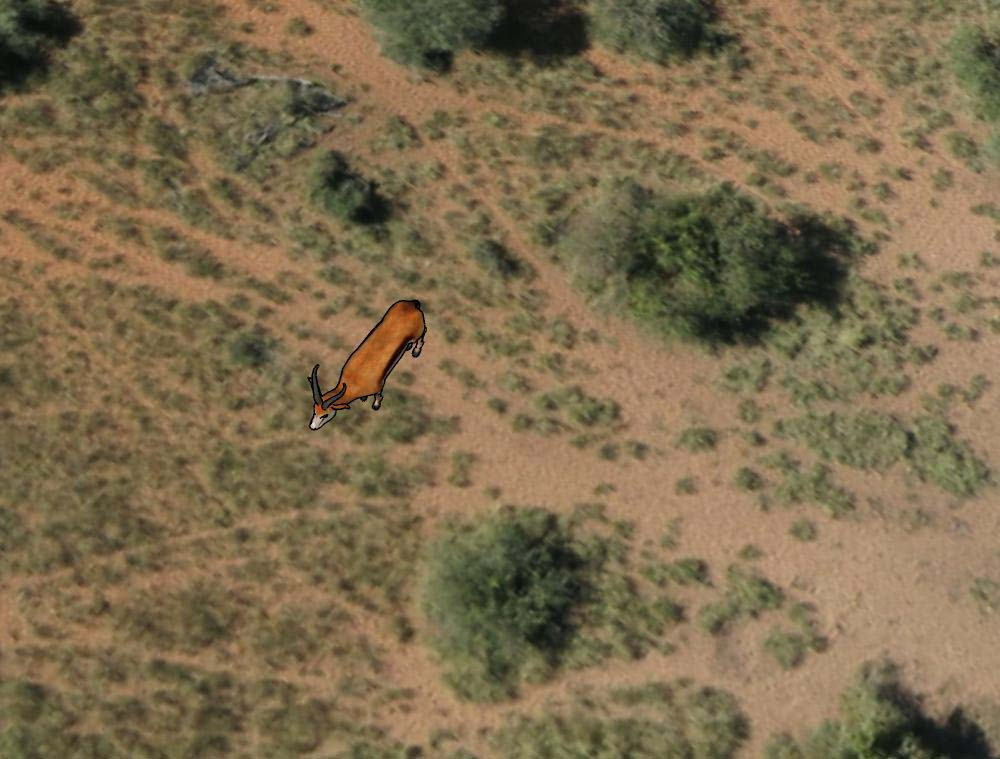springbok: (303, 299, 430, 432)
